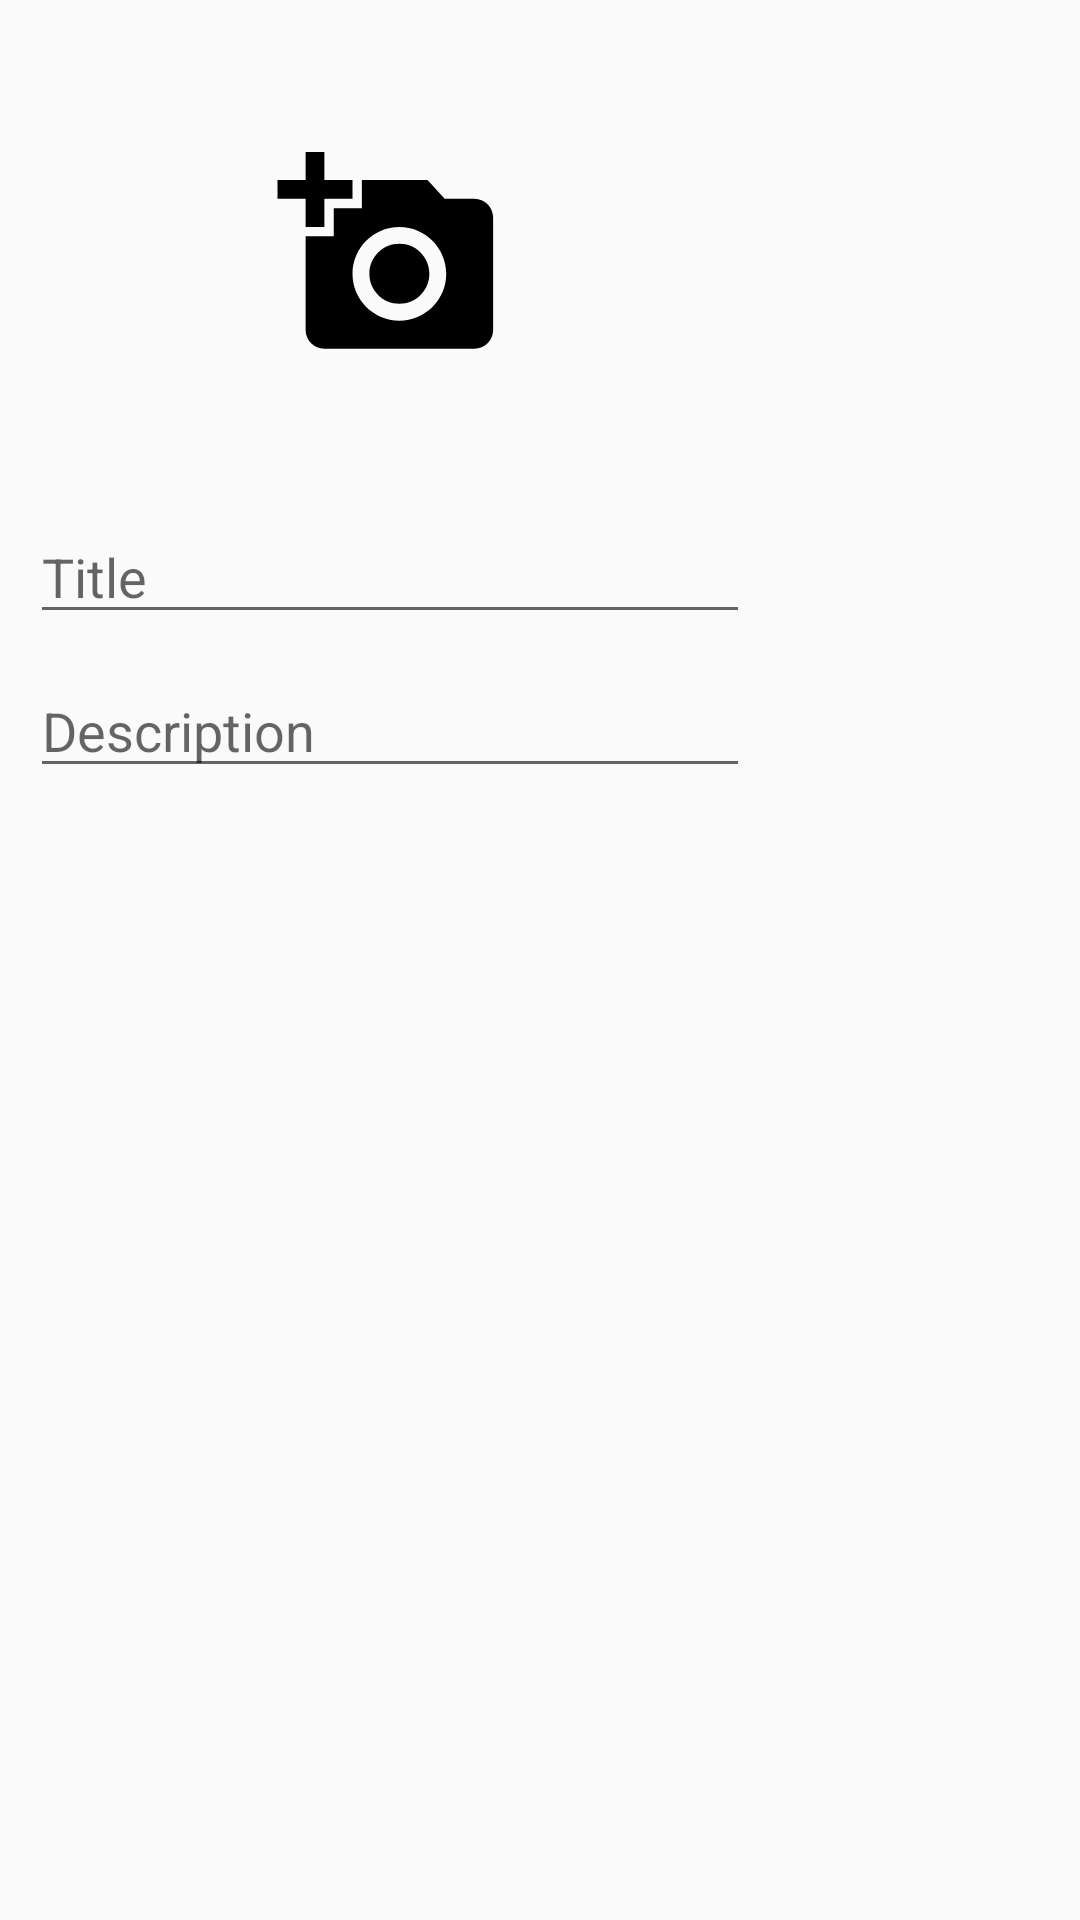

Icons on this 1080 x 1920 Android screen, each with its box as (x1, y1, x2, y2):
Add or view photo: (277, 152, 494, 349)
